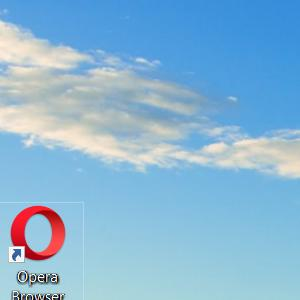opera: (8, 205, 65, 263)
